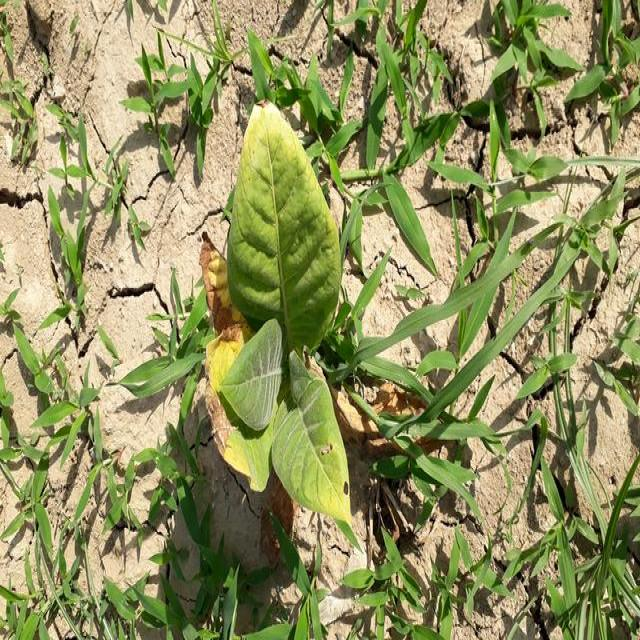crop: (201, 99, 360, 527)
